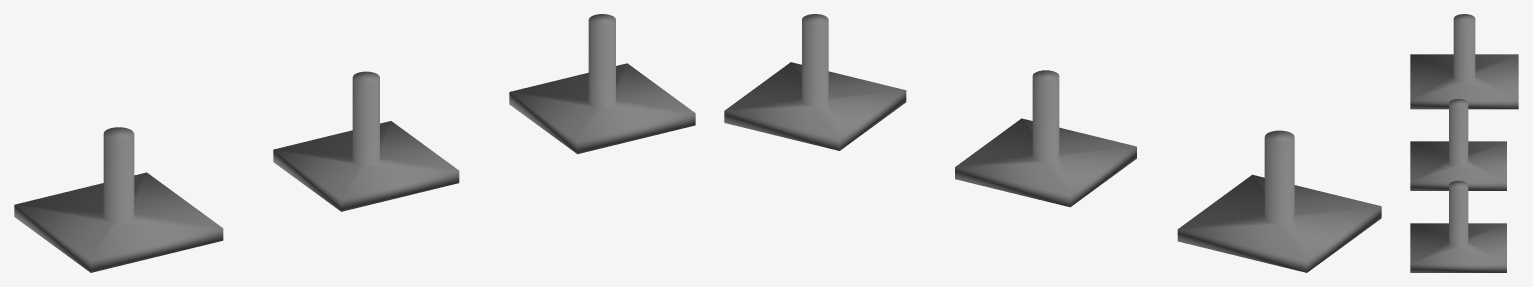
Rendered from Basep.obj.
The picture shows the model from 3 angles, left to right: view 1: azimuth 30°, elevation 25°; view 2: azimuth 150°, elevation 25°; view 3: azimuth 270°, elevation 25°; orthographic projection. The views are drawn at different scales.
Parts seen in each view (by area): view 1: Base; view 2: Base; view 3: Base.
Part boxes in pixels (x1,y1,x2,y2): Base: (14,14,695,272); Base: (724,14,1381,272); Base: (1410,14,1518,272).
Size of the model in its own units: 5.12 by 0.7703 by 1.12.
Materials: 1 (1 with a texture image).
